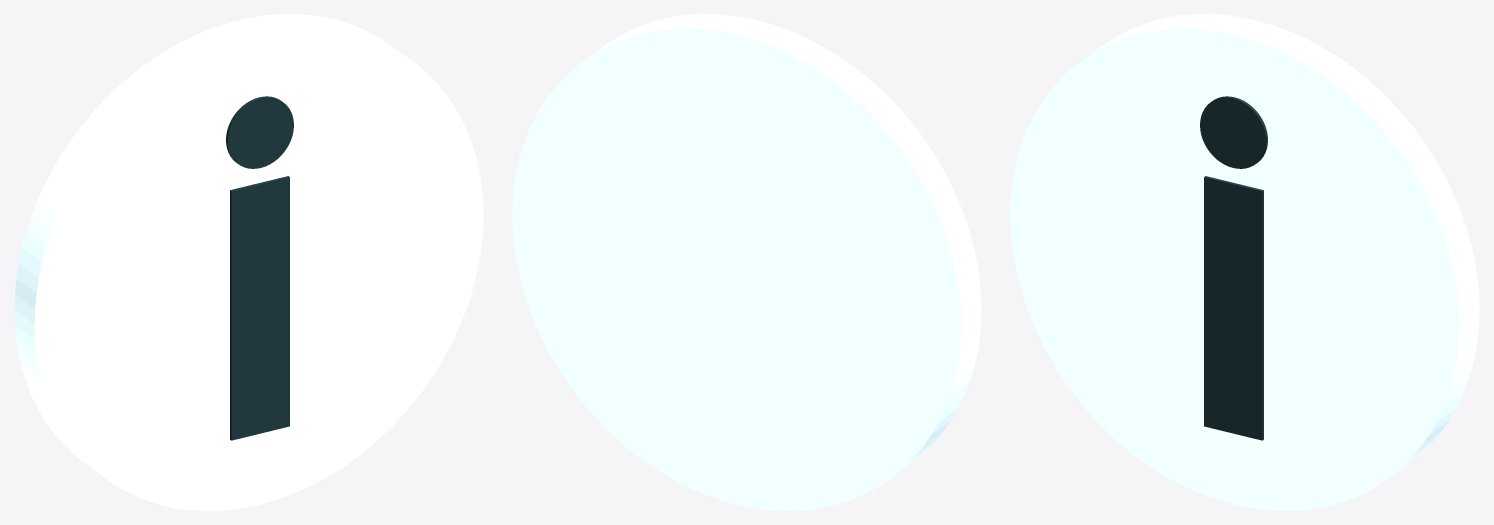
The model's file is roof_information_circle.glb.
The picture shows the model from 3 angles, left to right: view 1: azimuth 30°, elevation 25°; view 2: azimuth 150°, elevation 25°; view 3: azimuth 330°, elevation 25°; orthographic projection.
Visible parts, largest first — view 1: H-SG-001_roof_information_circle; view 2: H-SG-001_roof_information_circle; view 3: H-SG-001_roof_information_circle.
Boxes of the visible parts, x1,y1,x2,y2 form: H-SG-001_roof_information_circle: [14, 14, 483, 510]; H-SG-001_roof_information_circle: [512, 14, 981, 510]; H-SG-001_roof_information_circle: [1010, 14, 1479, 510].
Bounding box in the file's own units: 0.46 × 0.46 × 0.039.
